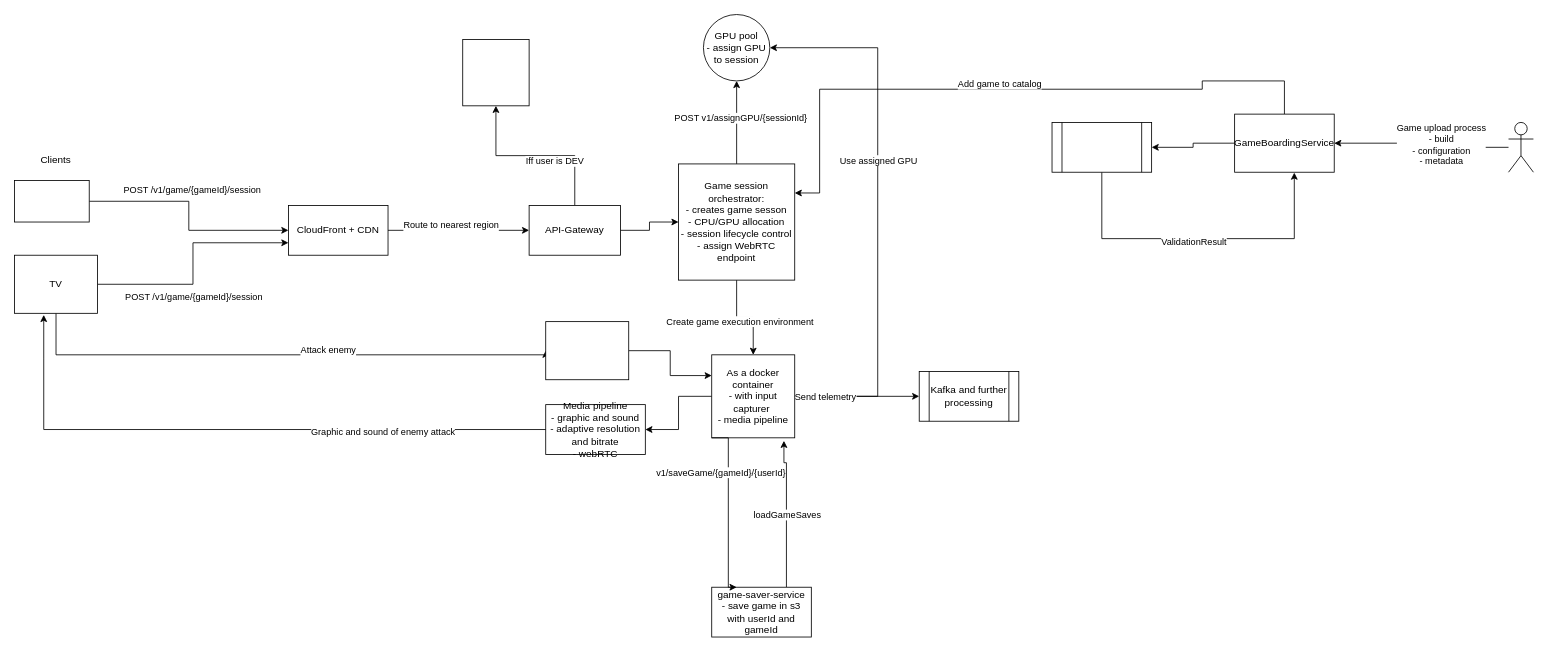
Some shapes in this 1563 by 652 pixel diagram are drawn without their labels. Here are the shapes that lost their labels. From the top down, the centre of each, then its label:
(495,72): DEV Portal - Telemetry - API to update build
(1101,147): Game validation process
(1520,147): GameStudio
(51,201): Netflix.com
(587,350): Input capturer - integration with browser and smartTV sdk
